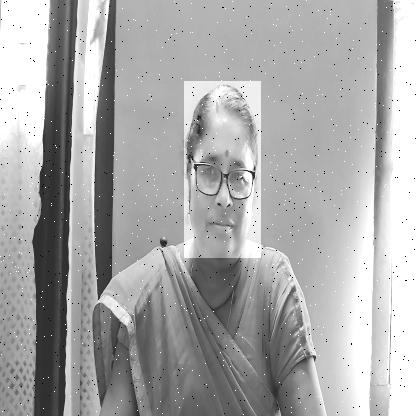Normal: (184, 81, 261, 258)
